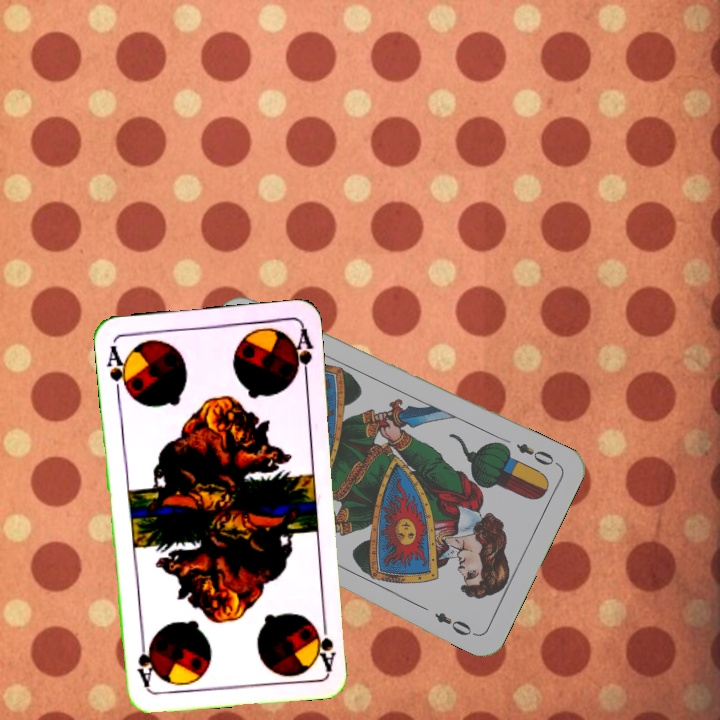EO: (512, 439, 561, 468)
SA: (103, 341, 133, 399), (312, 613, 339, 672)
